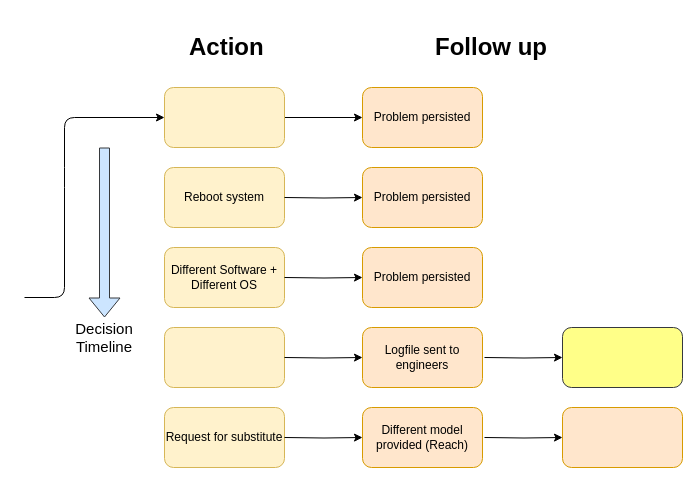
Image size: 700x485. Some labels were removed from this diagram. Each missing label, with the centre of its shape:
"Awaiting response" belongs at [622,357].
"Email Manufacturer" belongs at [224,357].
"QGroundControl incompatibility" belongs at [622,437].
"Re-solder connections" belongs at [224,117].
